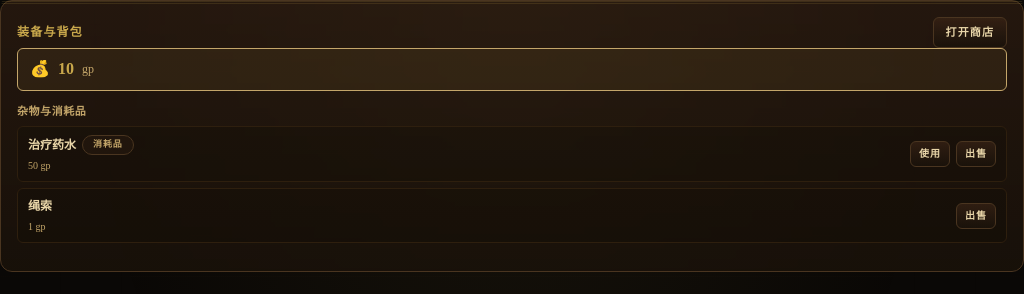
Test: InventoryPanel › uses a consumable and updates hit points and remaining gear
What coordinates should you click on to do the following:
click the button "使用"
I would click on:
 (930, 154)
Its box is [910,141,950,167].
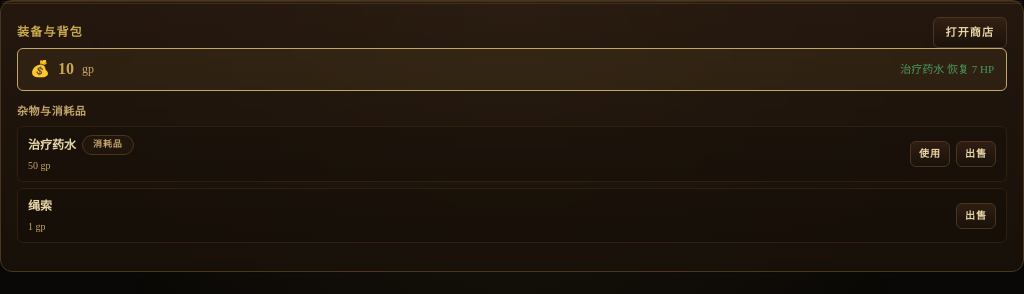
Result: the text "治疗药水 恢复 7 HP" is shown at [900,61,994,78]
